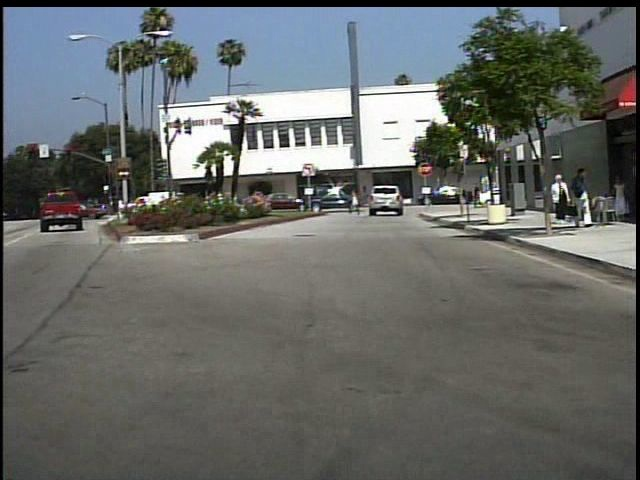person: (571, 166, 595, 230), (608, 176, 632, 224), (549, 175, 571, 226), (349, 186, 365, 218), (474, 180, 485, 214)
